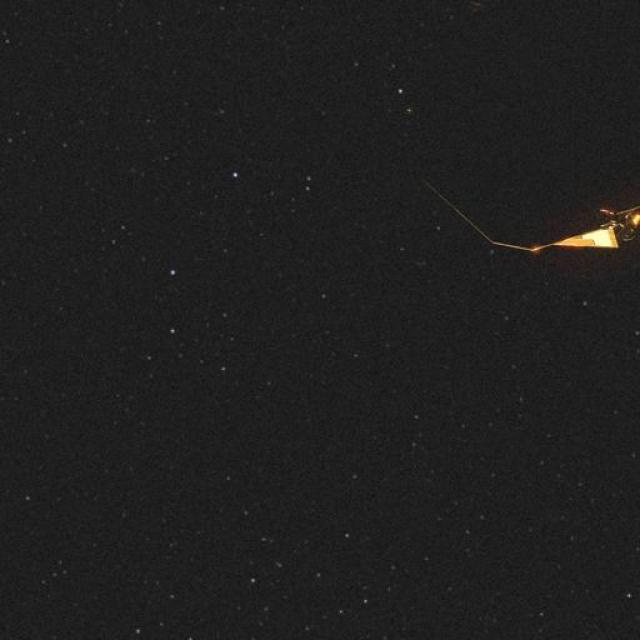lisa_pathfinder: (379, 104, 640, 308)
